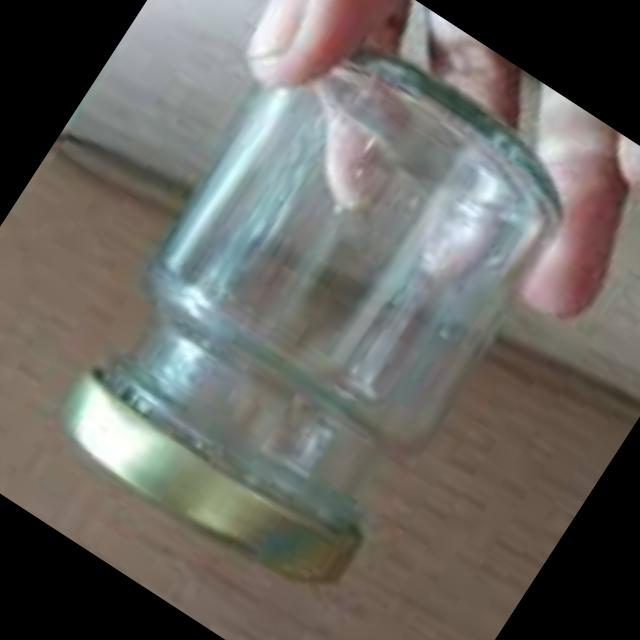ToplesKaca: (28, 0, 603, 620)
